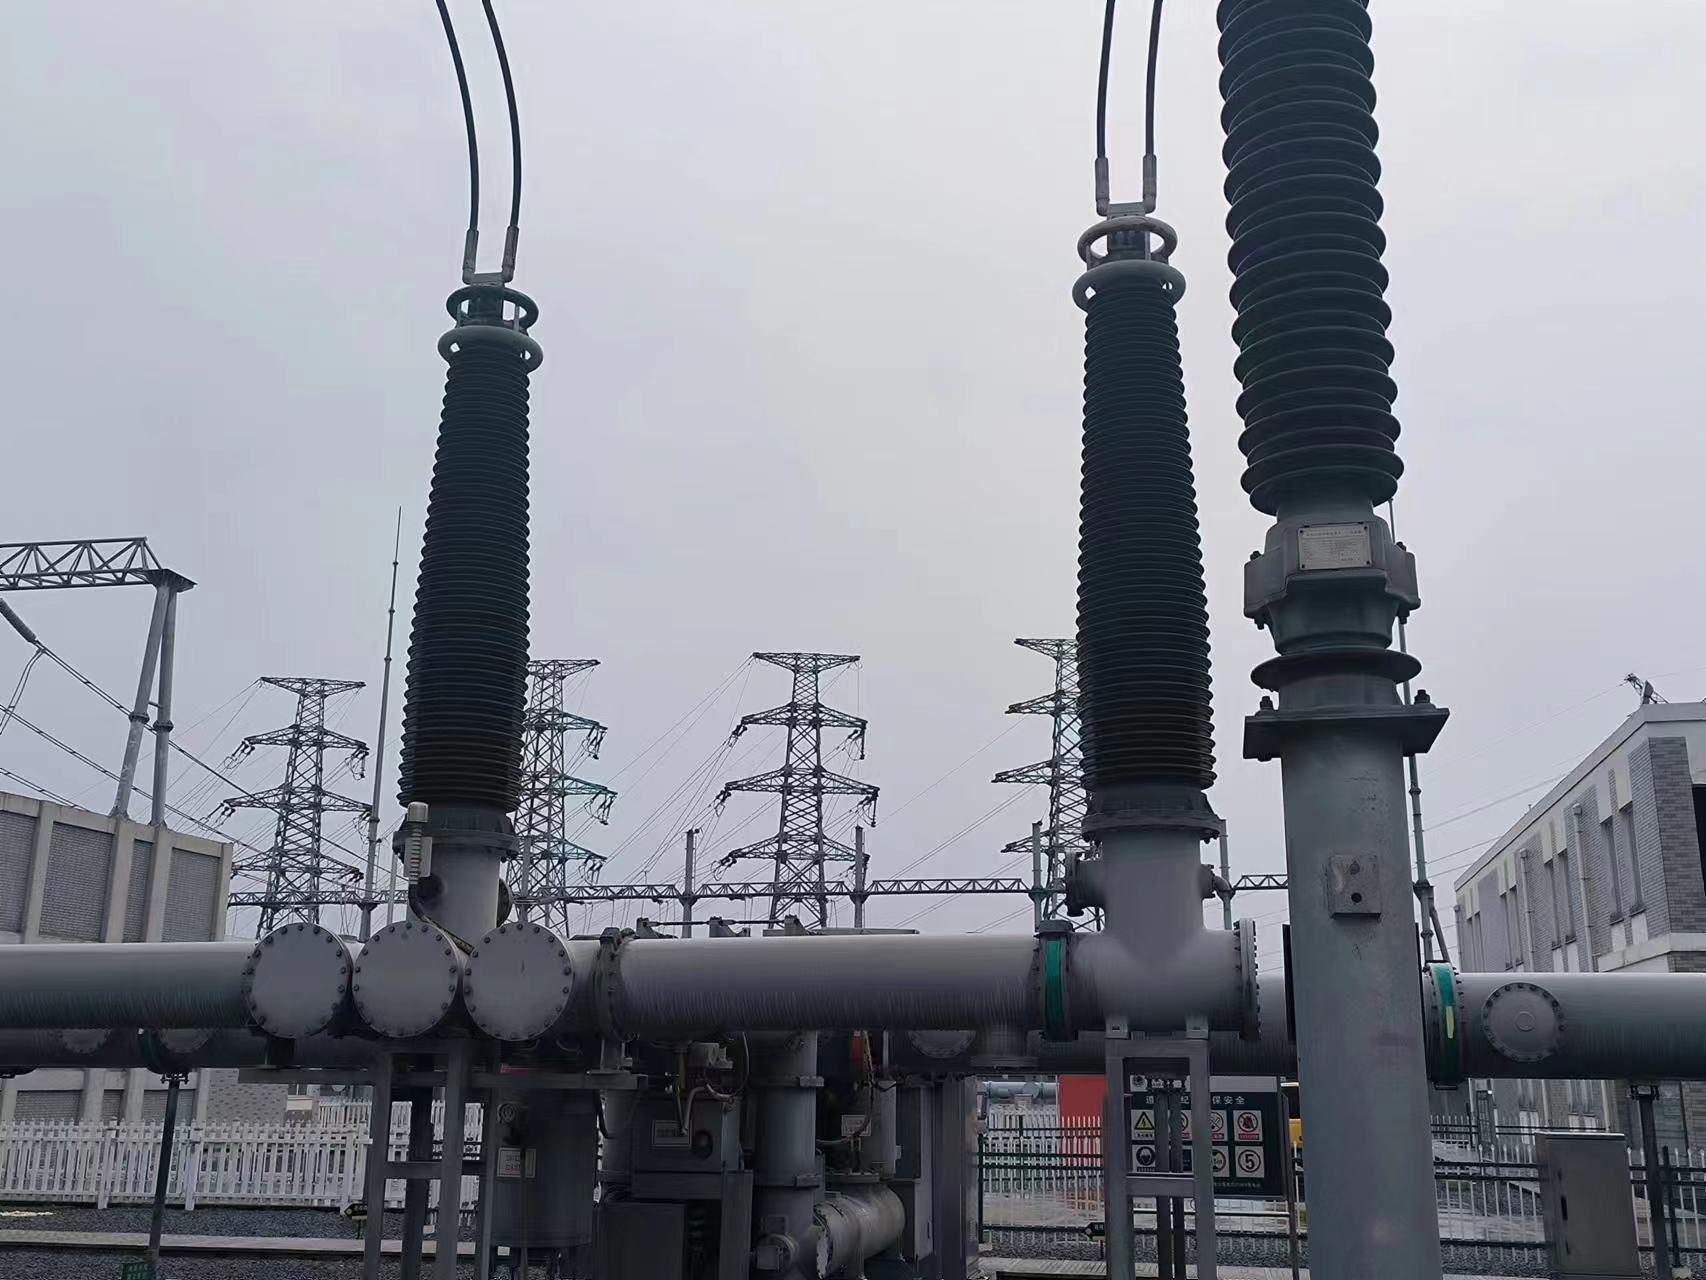Voltage transformer: (1063, 211, 1223, 835), (391, 282, 547, 803)
